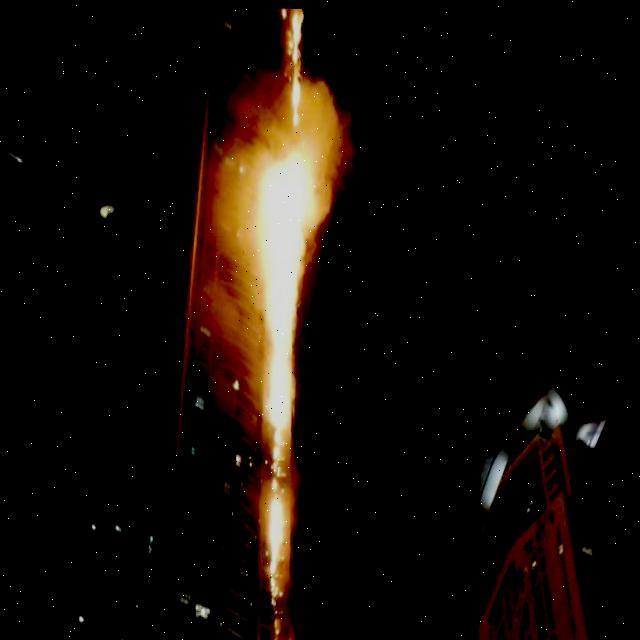Fire: (257, 11, 318, 596)
